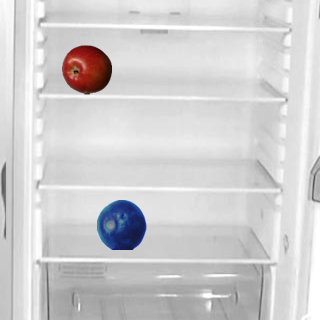Apple Braeburn: (61, 44, 111, 94)
Huckleberry: (96, 199, 146, 249)
